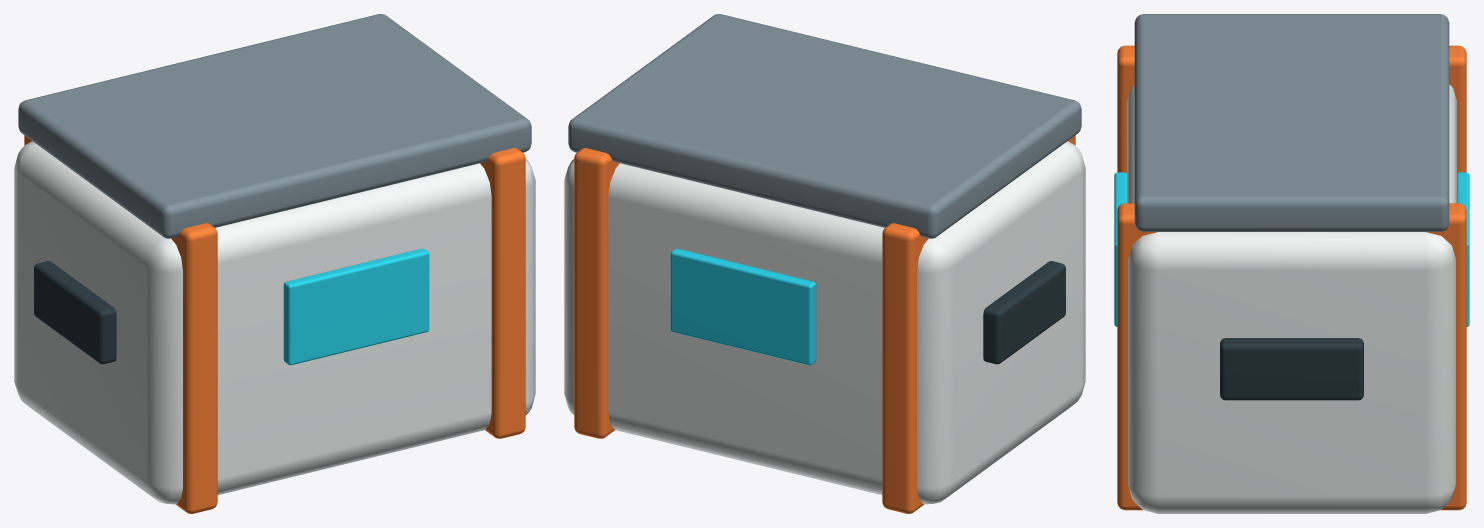
File: CargoCrate.fbx
The picture shows the model from 3 angles, left to right: view 1: azimuth 30°, elevation 25°; view 2: azimuth 150°, elevation 25°; view 3: azimuth 270°, elevation 25°; orthographic projection. The views are drawn at different scales.
Visible parts, largest first — view 1: Crate_Shell, Crate_Lid, Crate_LabelPanel, Crate_OrangeStrap, Crate_OrangeStrap.001, Crate_Handle; view 2: Crate_Shell, Crate_Lid, Crate_LabelPanel.001, Crate_OrangeStrap, Crate_OrangeStrap.001, Crate_Handle; view 3: Crate_Shell, Crate_Lid, Crate_Handle.001, Crate_OrangeStrap.001, Crate_OrangeStrap, Crate_LabelPanel, Crate_LabelPanel.001.
Part boxes in pixels (x1=…): Crate_Shell: x1=14, y1=141, x2=535, y2=504; Crate_Lid: x1=18, y1=14, x2=531, y2=238; Crate_LabelPanel: x1=283, y1=248, x2=429, y2=365; Crate_OrangeStrap: x1=24, y1=135, x2=217, y2=513; Crate_OrangeStrap.001: x1=480, y1=148, x2=525, y2=438; Crate_Handle: x1=34, y1=261, x2=116, y2=364; Crate_Shell: x1=564, y1=141, x2=1085, y2=504; Crate_Lid: x1=568, y1=14, x2=1081, y2=238; Crate_LabelPanel.001: x1=670, y1=248, x2=816, y2=365; Crate_OrangeStrap: x1=882, y1=135, x2=1075, y2=513; Crate_OrangeStrap.001: x1=574, y1=148, x2=619, y2=438; Crate_Handle: x1=983, y1=261, x2=1065, y2=364; Crate_Shell: x1=1127, y1=85, x2=1456, y2=513; Crate_Lid: x1=1134, y1=14, x2=1449, y2=231; Crate_Handle.001: x1=1220, y1=338, x2=1363, y2=400; Crate_OrangeStrap.001: x1=1117, y1=203, x2=1466, y2=510; Crate_OrangeStrap: x1=1117, y1=45, x2=1466, y2=172; Crate_LabelPanel: x1=1114, y1=172, x2=1126, y2=326; Crate_LabelPanel.001: x1=1457, y1=172, x2=1469, y2=326.
Size of the model in its own units: 1.3 by 0.91 by 0.915.
